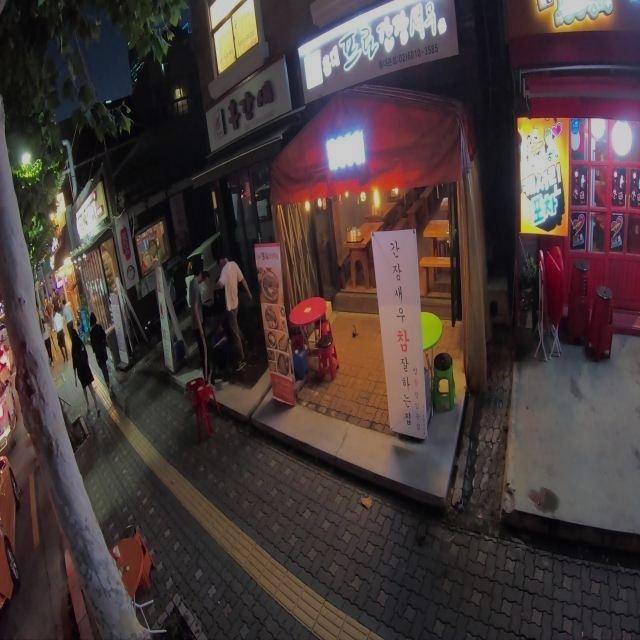fight: (183, 245, 254, 388)
non-fight: (67, 322, 95, 415)
